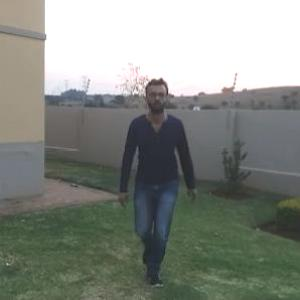follow: (123, 79, 190, 282)
